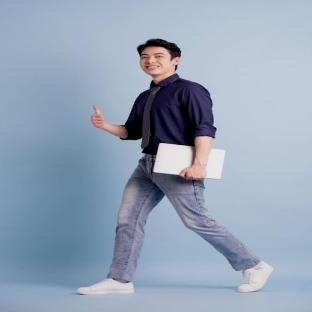Human: (78, 39, 272, 294)
